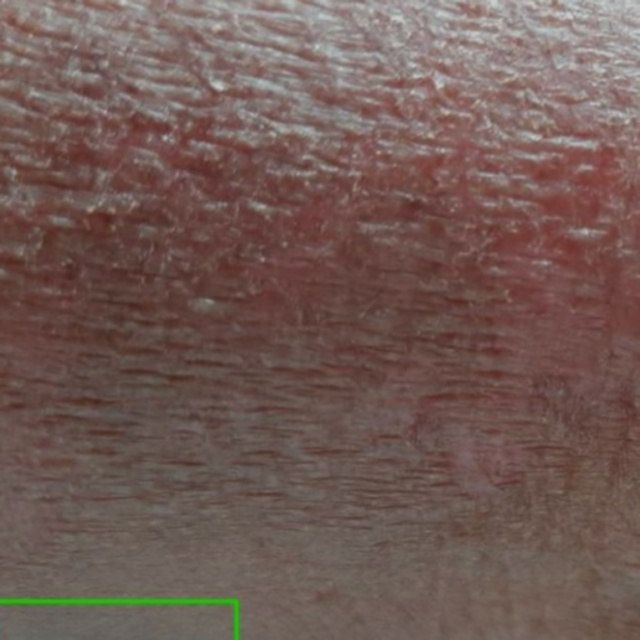Seborrheic Dermatitis: (0, 601, 236, 639)
